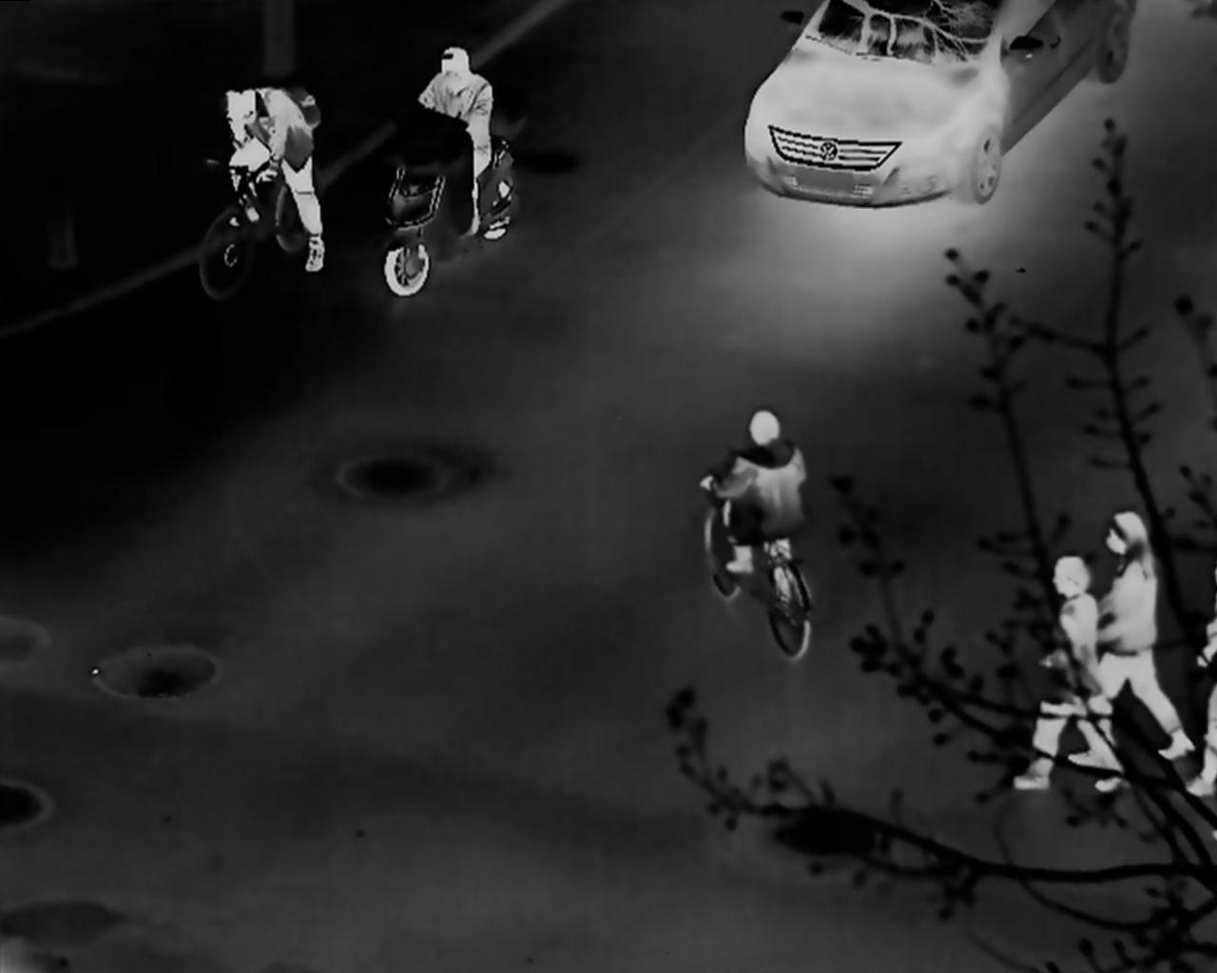person: (1003, 553, 1129, 796), (1094, 507, 1198, 764), (220, 77, 325, 277), (701, 409, 810, 578), (416, 47, 494, 238)
